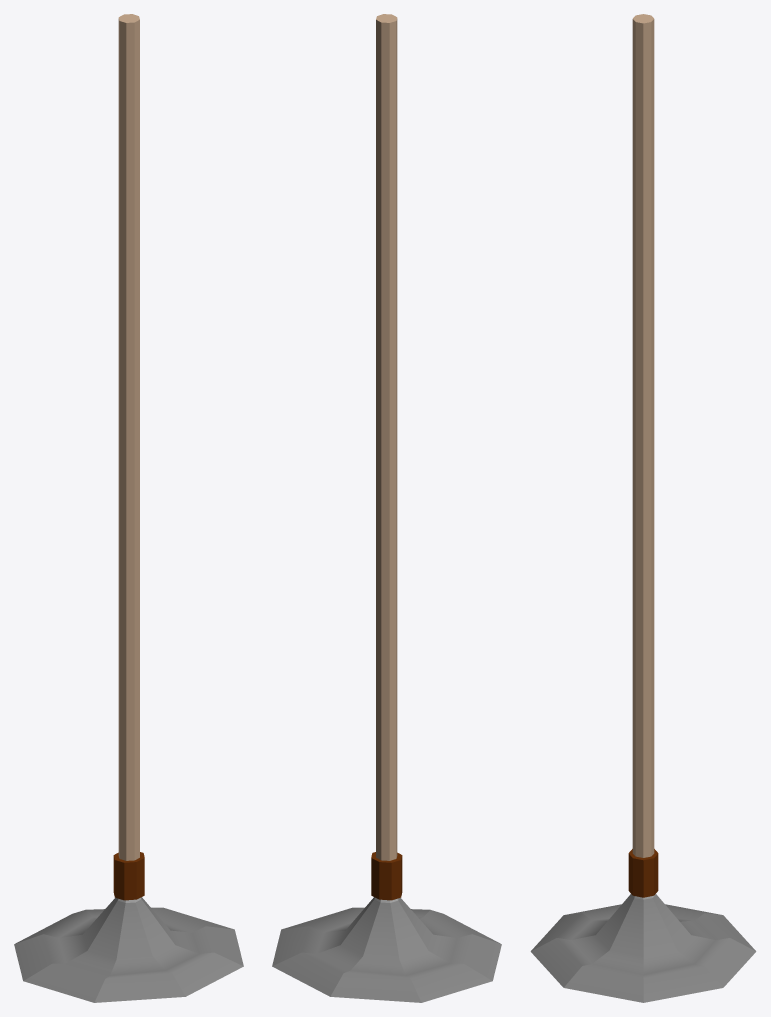
The model's file is trapero.fbx.
The picture shows the model from 3 angles, left to right: view 1: azimuth 30°, elevation 25°; view 2: azimuth 150°, elevation 25°; view 3: azimuth 270°, elevation 25°; orthographic projection.
Visible parts, largest first — view 1: trapero1; view 2: trapero1; view 3: trapero1.
Part boxes in pixels (bbox=[...]): trapero1: bbox=[14, 14, 243, 1002]; trapero1: bbox=[272, 14, 501, 1002]; trapero1: bbox=[530, 14, 756, 1002].
Bounding box in the file's own units: 4.22 × 17.86 × 3.92.
